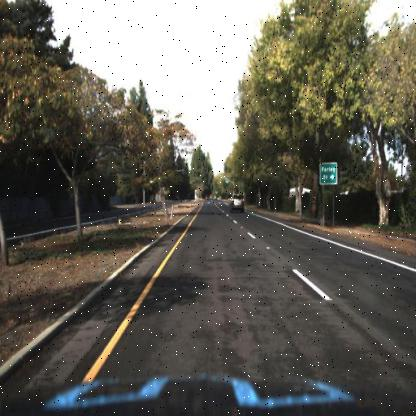car: (230, 192, 245, 214)
